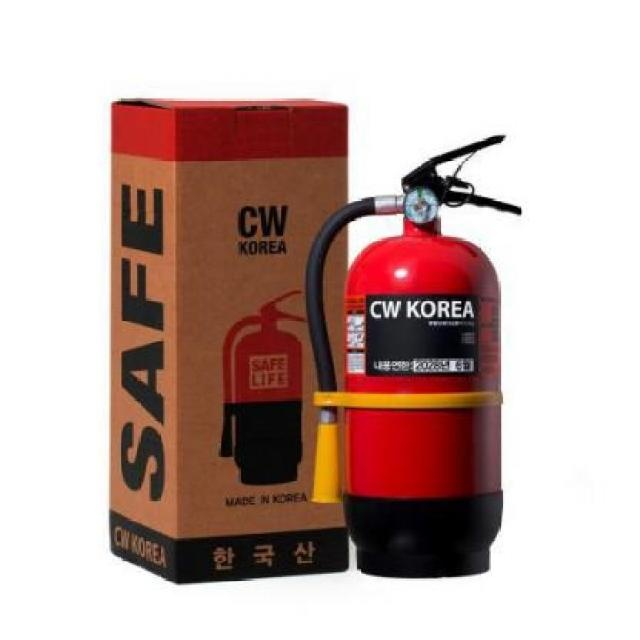fire extinguisher: (304, 136, 521, 579)
